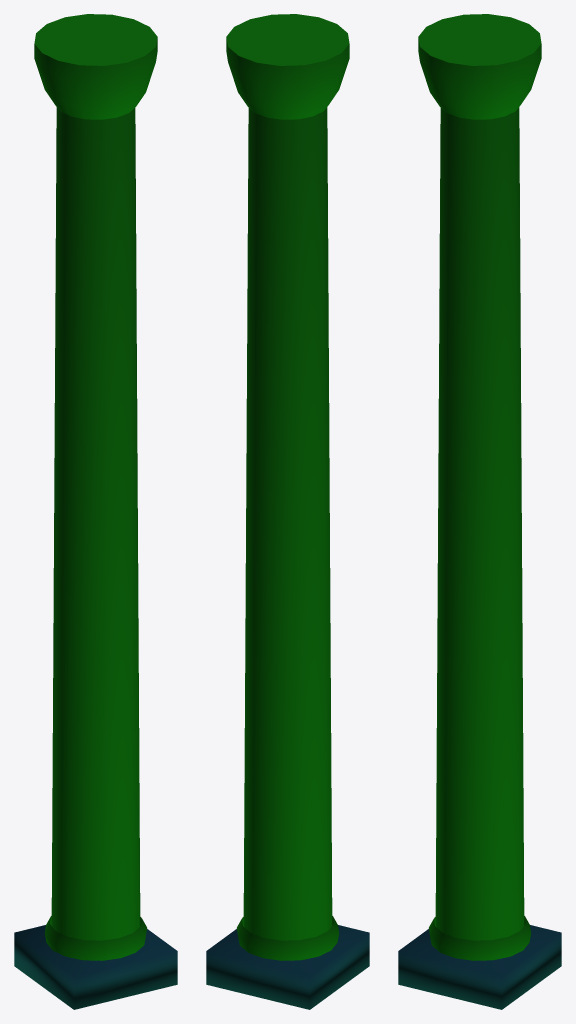
File: court_column.glb
The picture shows the model from 3 angles, left to right: view 1: azimuth 30°, elevation 25°; view 2: azimuth 150°, elevation 25°; view 3: azimuth 330°, elevation 25°; orthographic projection.
Parts seen in each view (by area): view 1: court_column; view 2: court_column; view 3: court_column.
Part boxes in pixels (x1,y1,x2,y2): court_column: (14,14,177,1009); court_column: (206,14,369,1009); court_column: (398,14,561,1009).
Size of what is drawn, in the model's own units: 0.72 by 5.99 by 0.72.
